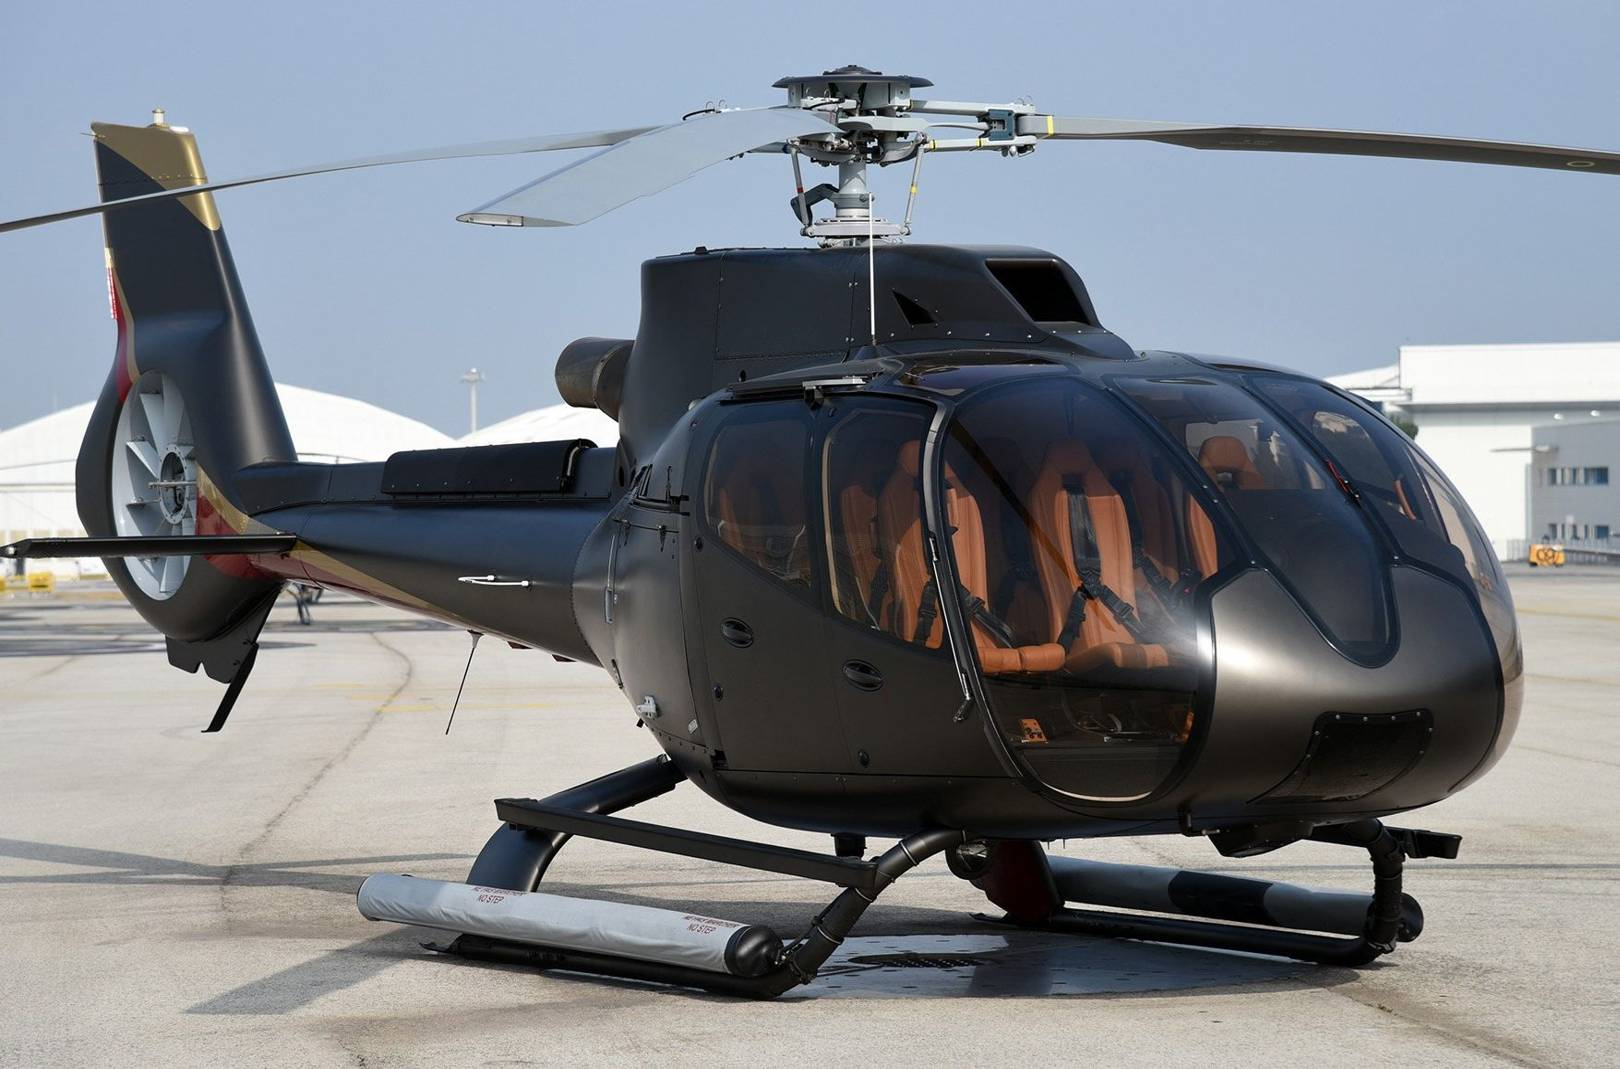Helicopter: (52, 101, 1535, 991)
